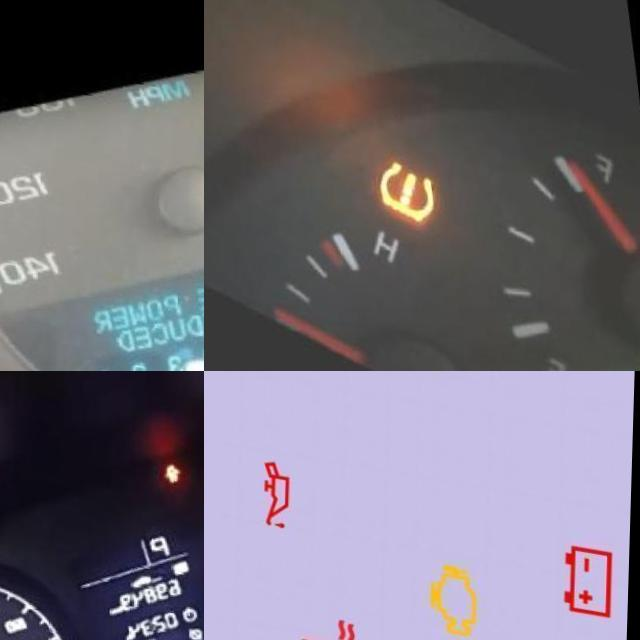Low fuel level: (562, 335, 627, 371)
